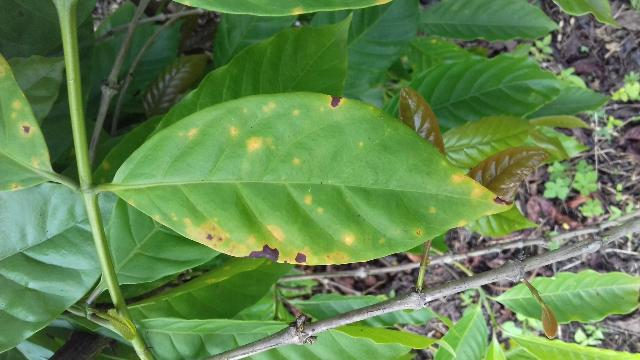rust_level_2: (105, 87, 519, 270)
